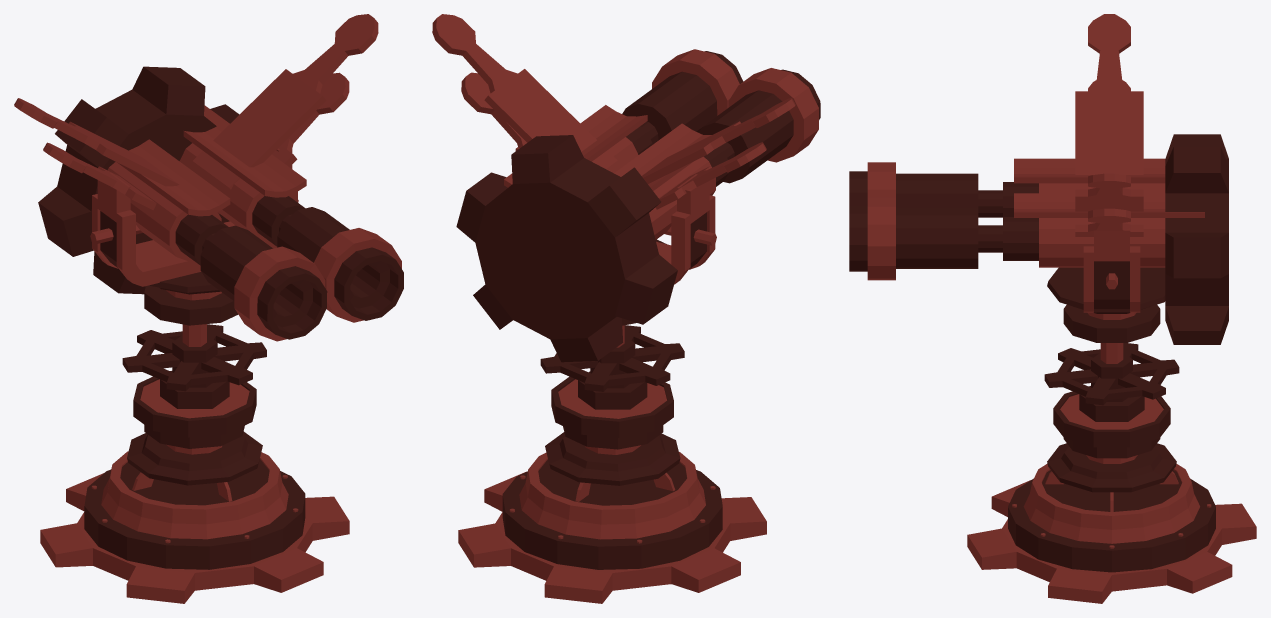
Rendered from Bomber_1.glb.
3 renders of one model, left to right at view 1: azimuth 30°, elevation 25°; view 2: azimuth 150°, elevation 25°; view 3: azimuth 270°, elevation 25°, orthographic. The views are drawn at different scales.
Visible parts, largest first — view 1: Bomber_1_Gun, Bomber_1_Base, Bomber_1_Mid; view 2: Bomber_1_Gun, Bomber_1_Base, Bomber_1_Mid; view 3: Bomber_1_Gun, Bomber_1_Base, Bomber_1_Mid.
Part boxes in pixels (<box>): Bomber_1_Gun: <box>14,14,403,341</box>; Bomber_1_Base: <box>40,371,349,603</box>; Bomber_1_Mid: <box>90,148,297,408</box>; Bomber_1_Gun: <box>432,14,820,362</box>; Bomber_1_Base: <box>458,376,766,603</box>; Bomber_1_Mid: <box>515,147,716,409</box>; Bomber_1_Gun: <box>849,14,1228,344</box>; Bomber_1_Base: <box>967,386,1256,603</box>; Bomber_1_Mid: <box>1044,228,1179,421</box>.
Size of the model in its own units: 1.23 by 1.59 by 1.3.
